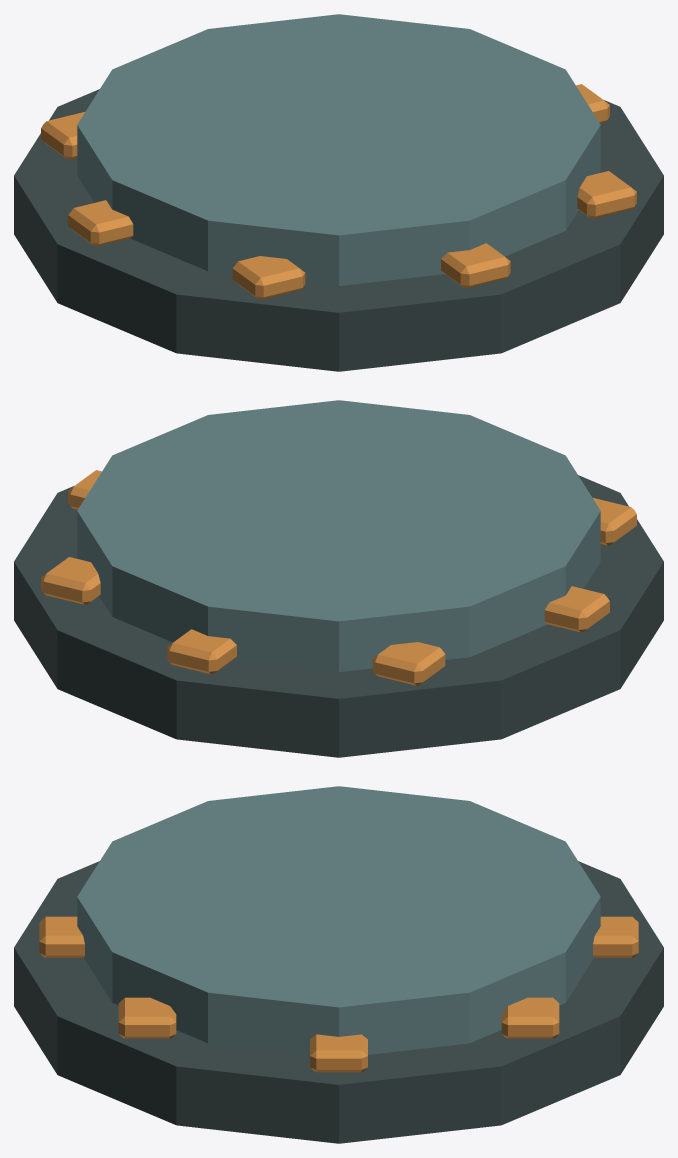
Rendered from Core_Pedestal.glb.
The picture shows the model from 3 angles, top to bottom: view 1: azimuth 30°, elevation 25°; view 2: azimuth 150°, elevation 25°; view 3: azimuth 270°, elevation 25°; orthographic projection.
Visible parts, largest first — view 1: Core_Pedestal; view 2: Core_Pedestal; view 3: Core_Pedestal.
Part boxes in pixels (x1,y1,x2,y2): Core_Pedestal: (14, 14, 663, 371); Core_Pedestal: (14, 400, 663, 757); Core_Pedestal: (14, 786, 663, 1143).
Size of the model in its own units: 3.6 by 0.67 by 3.6.
